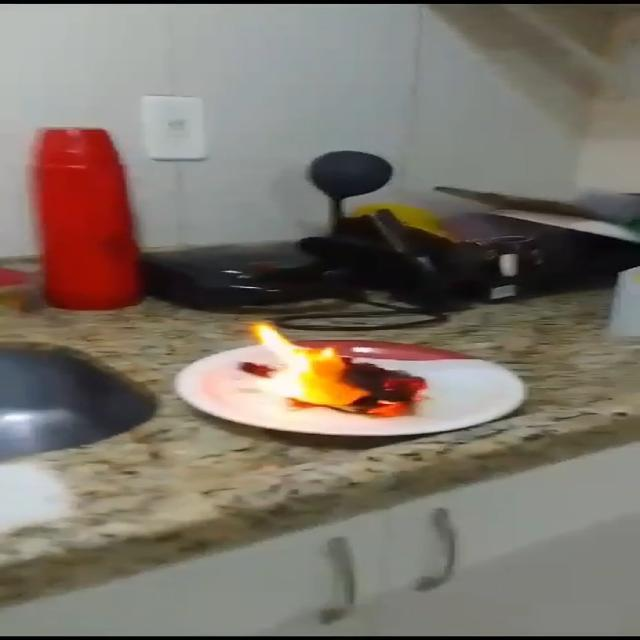fire: (249, 321, 360, 406)
